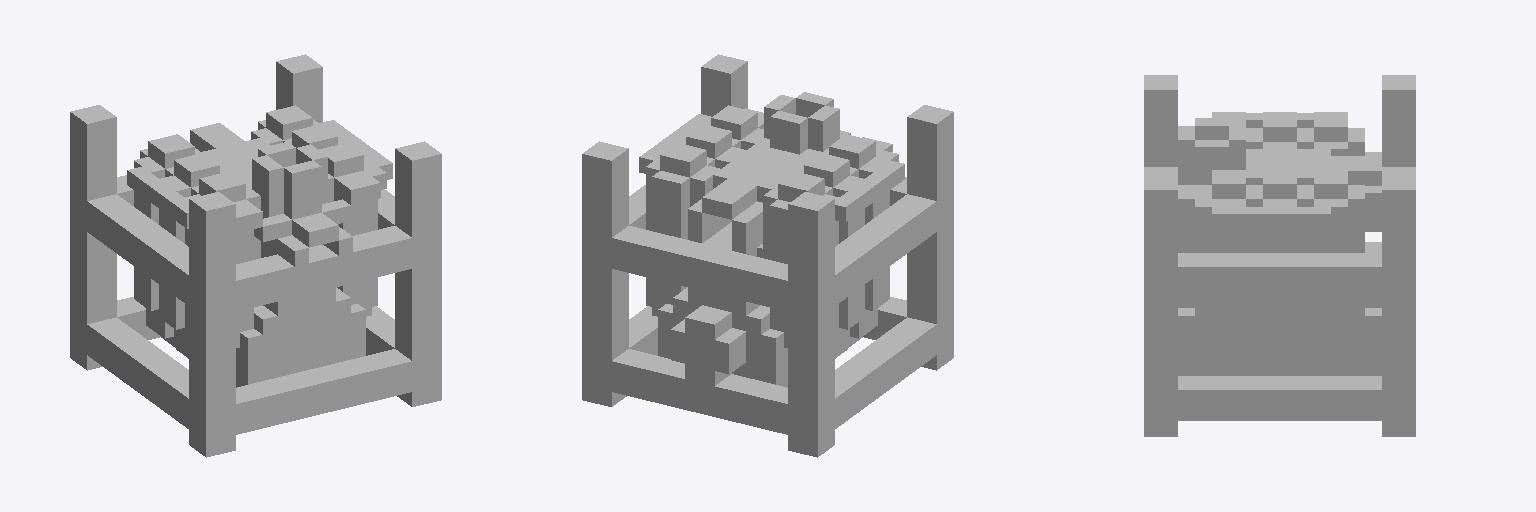
Rendered from power_generators_ce_6c.obj.
3 renders of one model, left to right at view 1: azimuth 30°, elevation 25°; view 2: azimuth 150°, elevation 25°; view 3: azimuth 270°, elevation 25°, orthographic.
Parts seen in each view (by area): view 1: node_0_0_0.008; view 2: node_0_0_0.008; view 3: node_0_0_0.008.
Boxes of the visible parts, x1,y1,x2,y2 form: node_0_0_0.008: [70, 54, 441, 457]; node_0_0_0.008: [582, 54, 953, 457]; node_0_0_0.008: [1144, 75, 1415, 436].
Bounding box in the file's own units: 1 × 1 × 1.